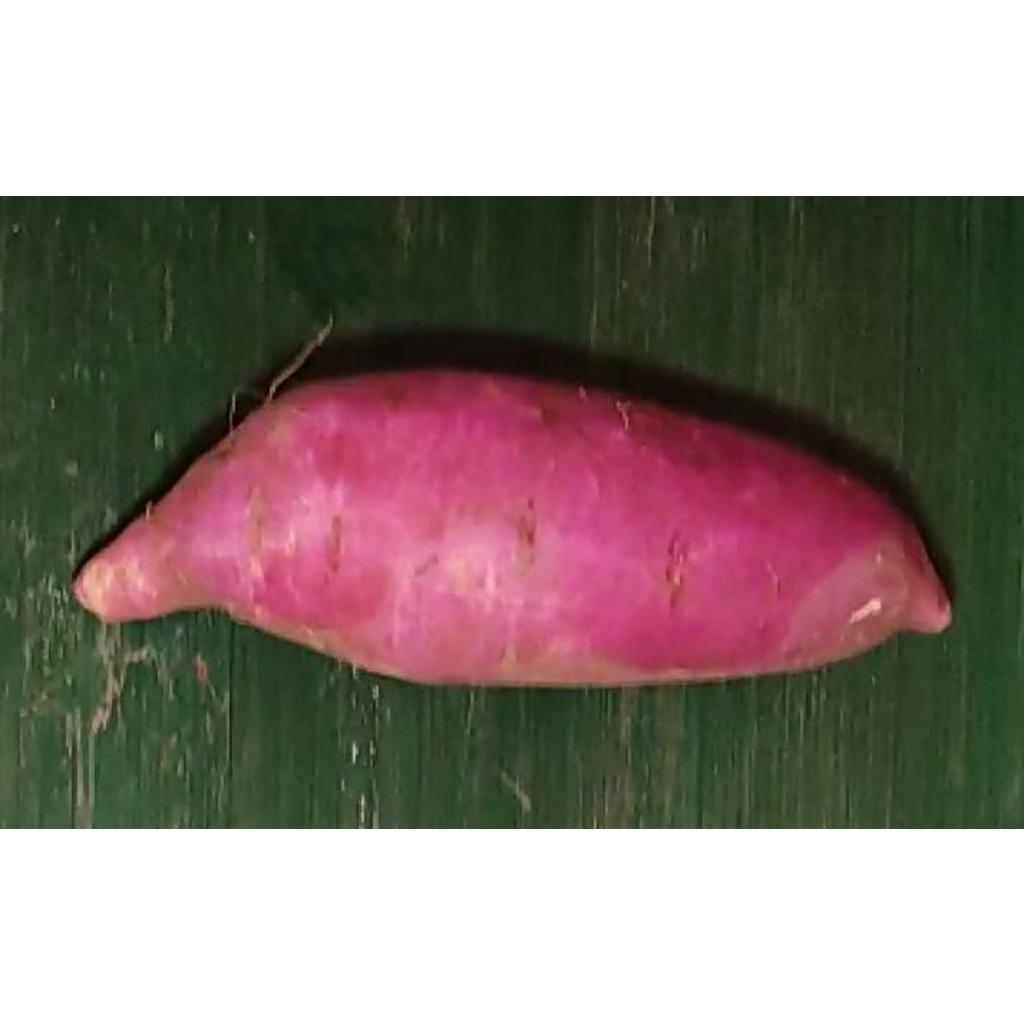Sweet Potato: (70, 367, 954, 688)
